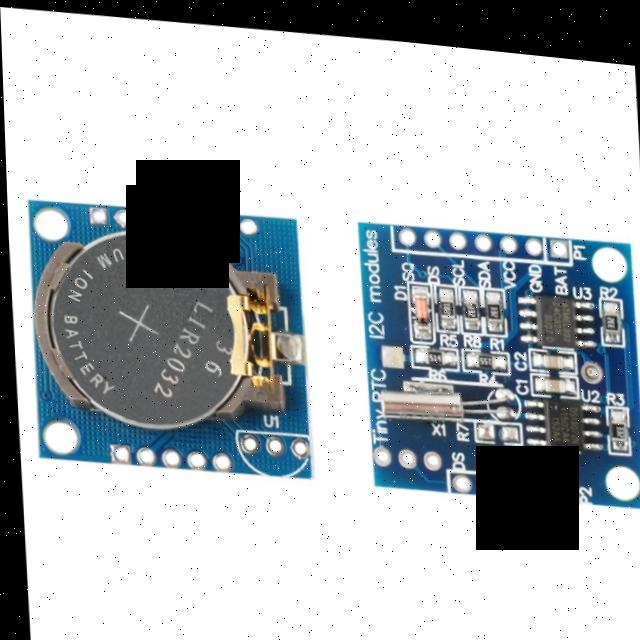IC: (527, 272, 580, 339), (537, 382, 583, 438)
battery: (25, 212, 295, 434)
capacitor 1V5: (533, 362, 577, 385), (539, 341, 569, 362)
clock Q1: (368, 370, 513, 425)
diode -D1-: (409, 278, 428, 322)
resistor IR1: (601, 392, 632, 444), (598, 283, 619, 335), (467, 336, 503, 360), (482, 283, 502, 323), (412, 337, 443, 360), (437, 279, 452, 320), (461, 283, 476, 322)
